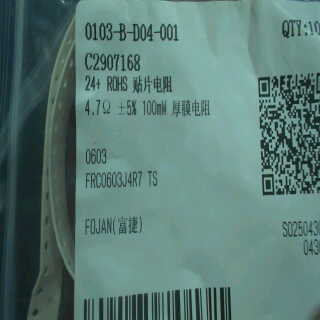4.7R: (82, 96, 119, 120)
